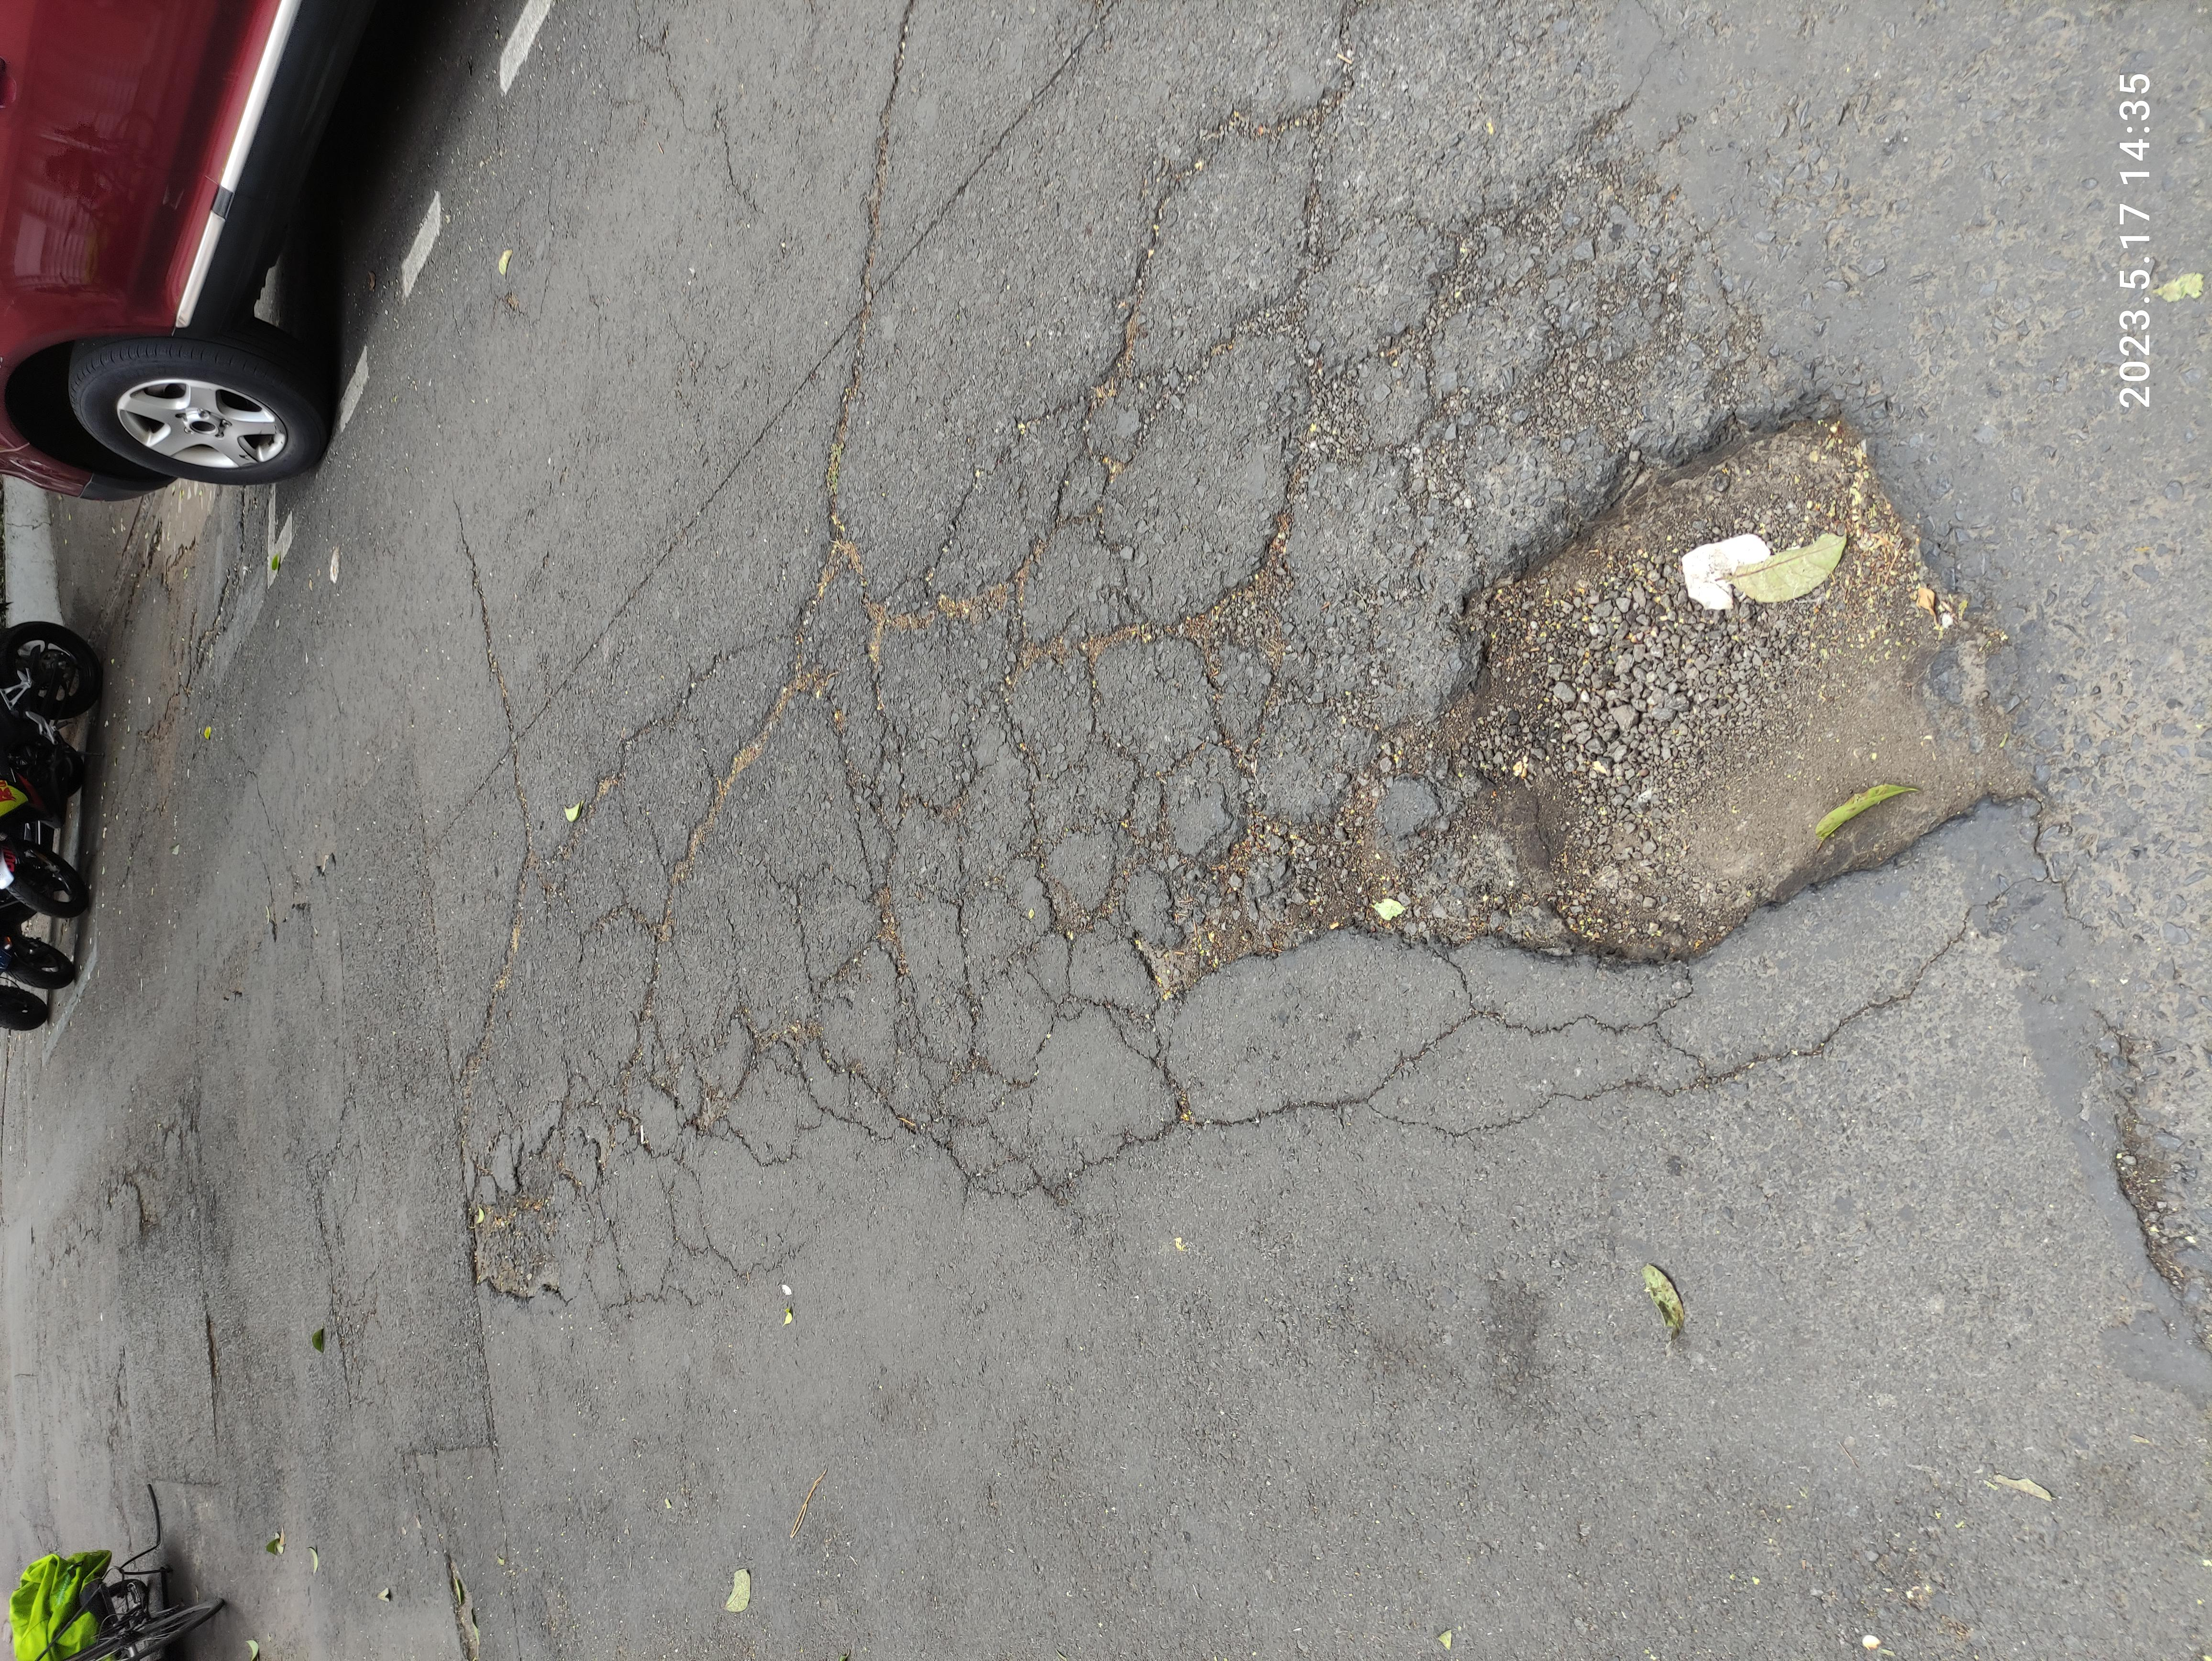alligator-crack: (478, 359, 2001, 1092)
pothole: (851, 1049, 1711, 1523)
